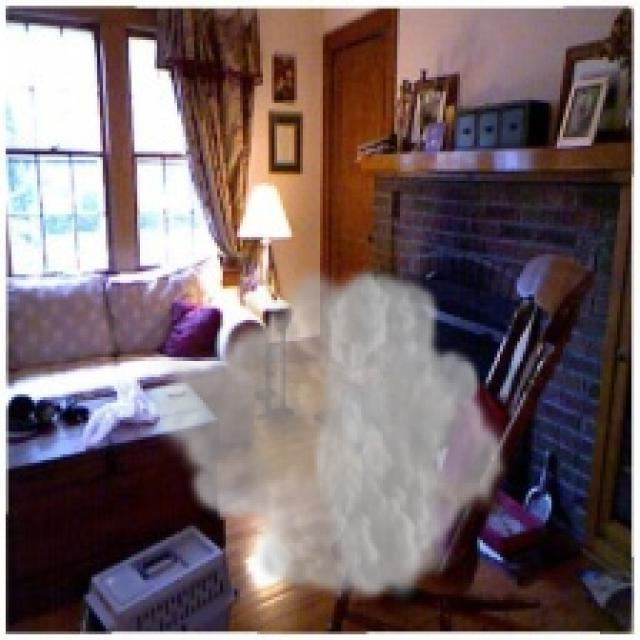Smoke: (146, 260, 508, 609)
